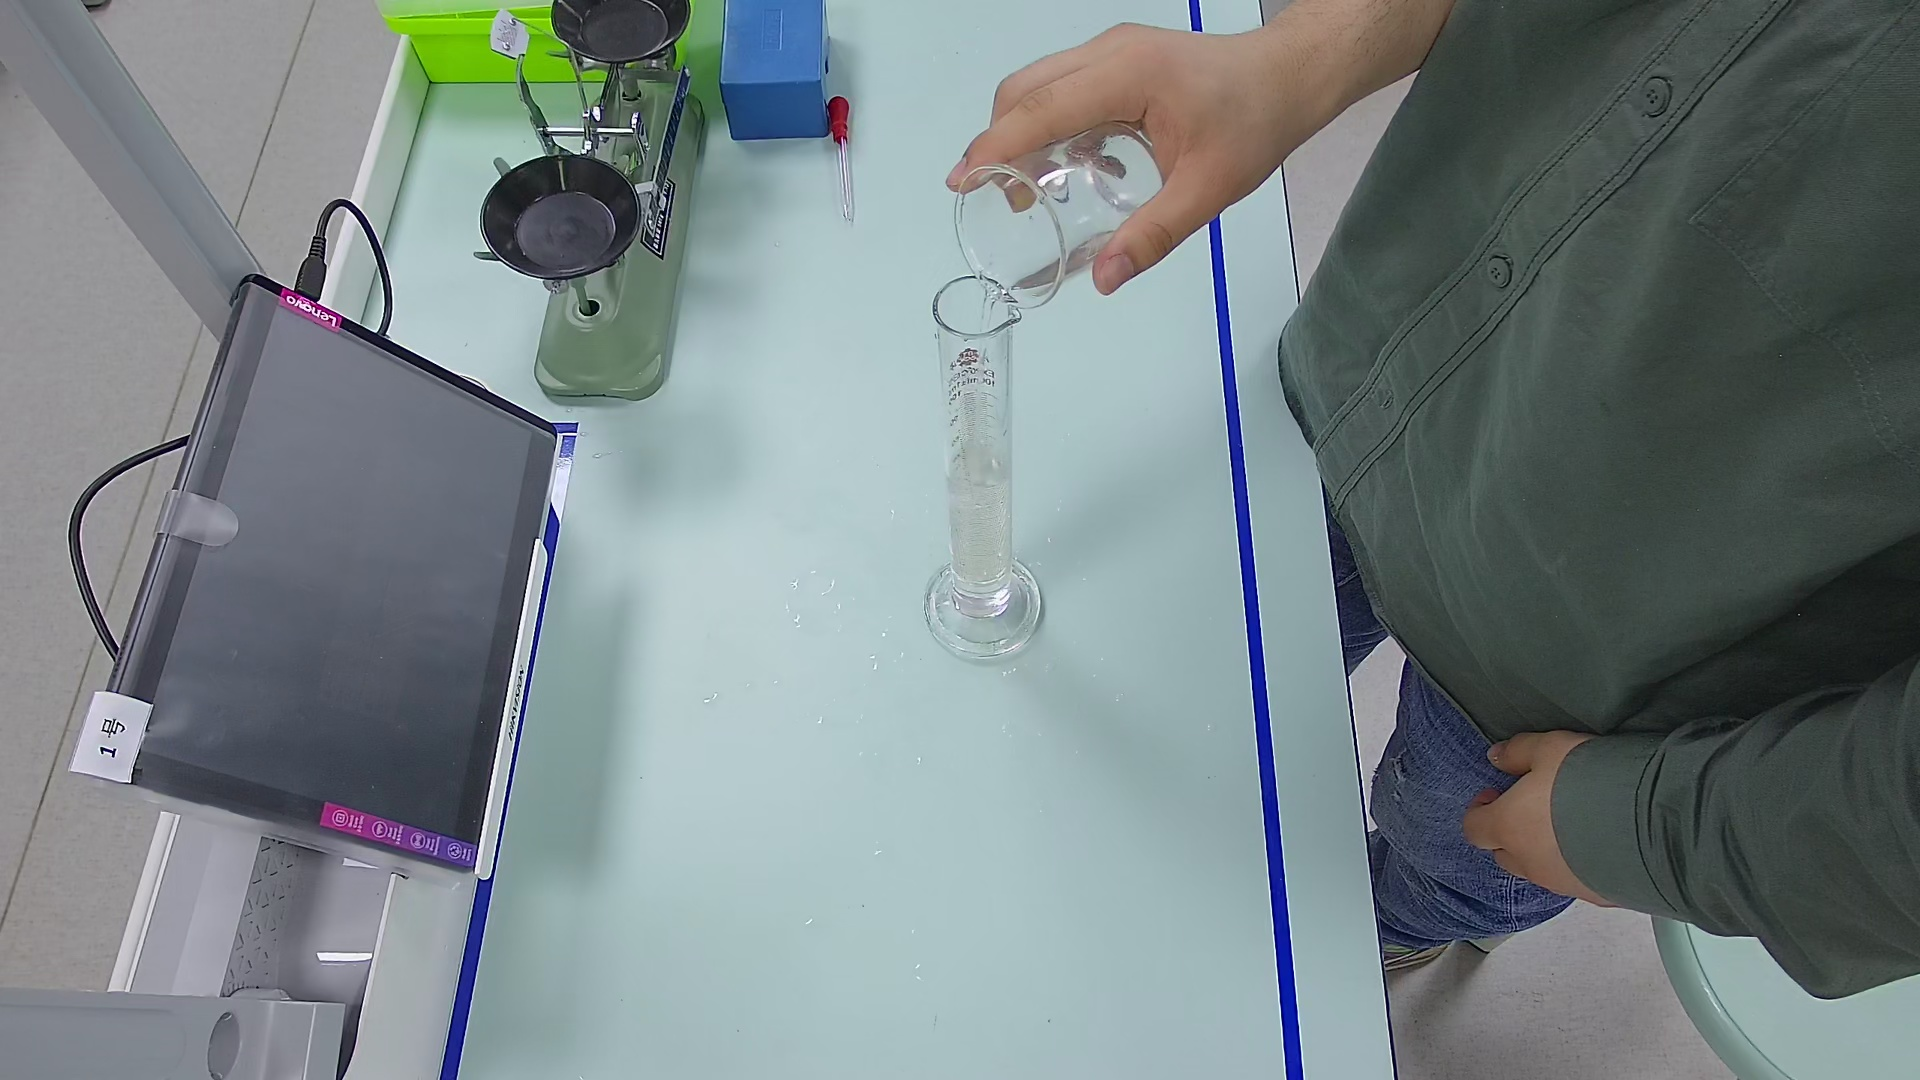ao: (945, 454, 1013, 495)
bei: (953, 124, 1176, 313)
diguan: (823, 91, 874, 229)
diguantou: (825, 94, 851, 146)
hand: (957, 24, 1255, 281), (1451, 723, 1573, 897)
liangdi: (918, 559, 1054, 673)
liangtong: (916, 266, 1058, 669)
tuo: (480, 152, 641, 281), (547, 1, 700, 73)
